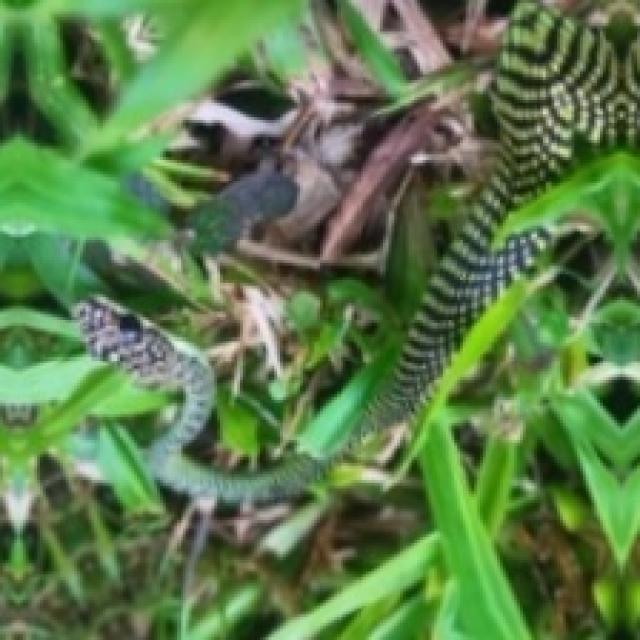paradise tree snake: (80, 3, 637, 500), (277, 183, 400, 331)
